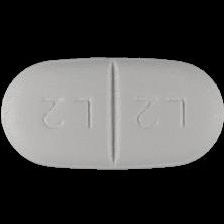21695-996: (0, 0, 224, 224)
